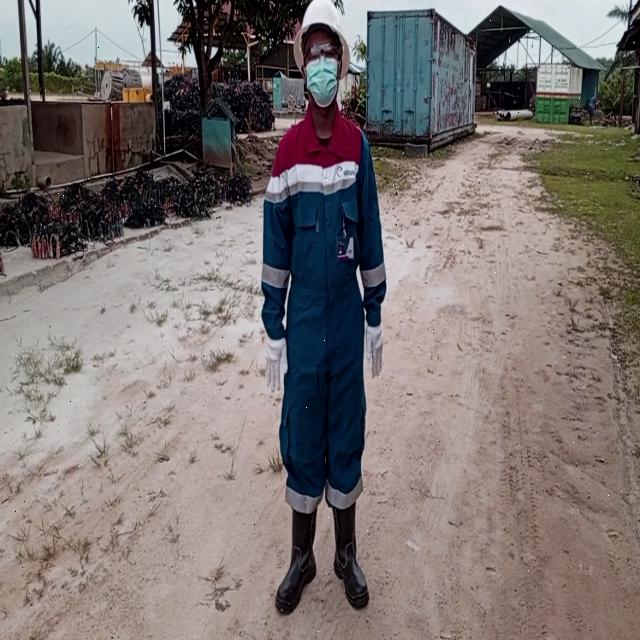Gloves: (268, 340, 289, 392), (368, 326, 384, 384)
Hardhat: (291, 0, 354, 70)
Mask: (306, 59, 338, 110)
Overall Suit: (264, 116, 390, 508)
Safety Boots: (279, 510, 318, 618), (336, 509, 374, 608)
